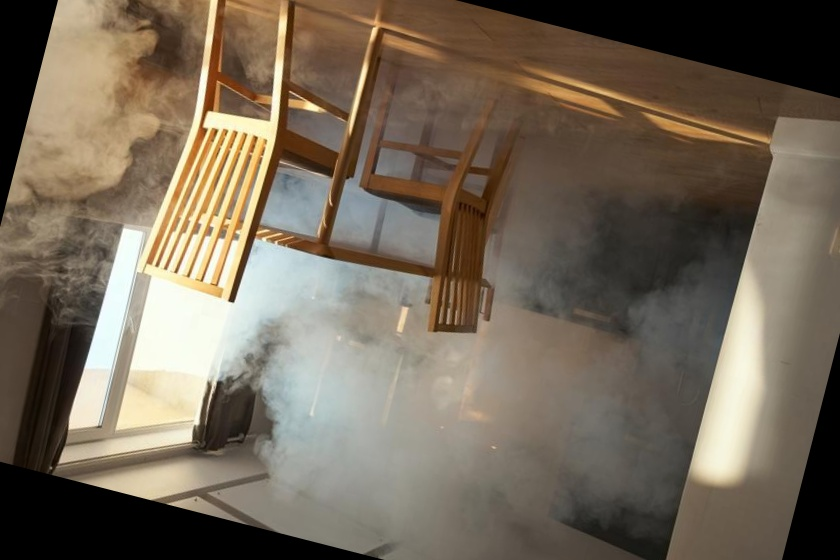smoke: (251, 310, 698, 560), (197, 157, 443, 411), (0, 0, 201, 305)
